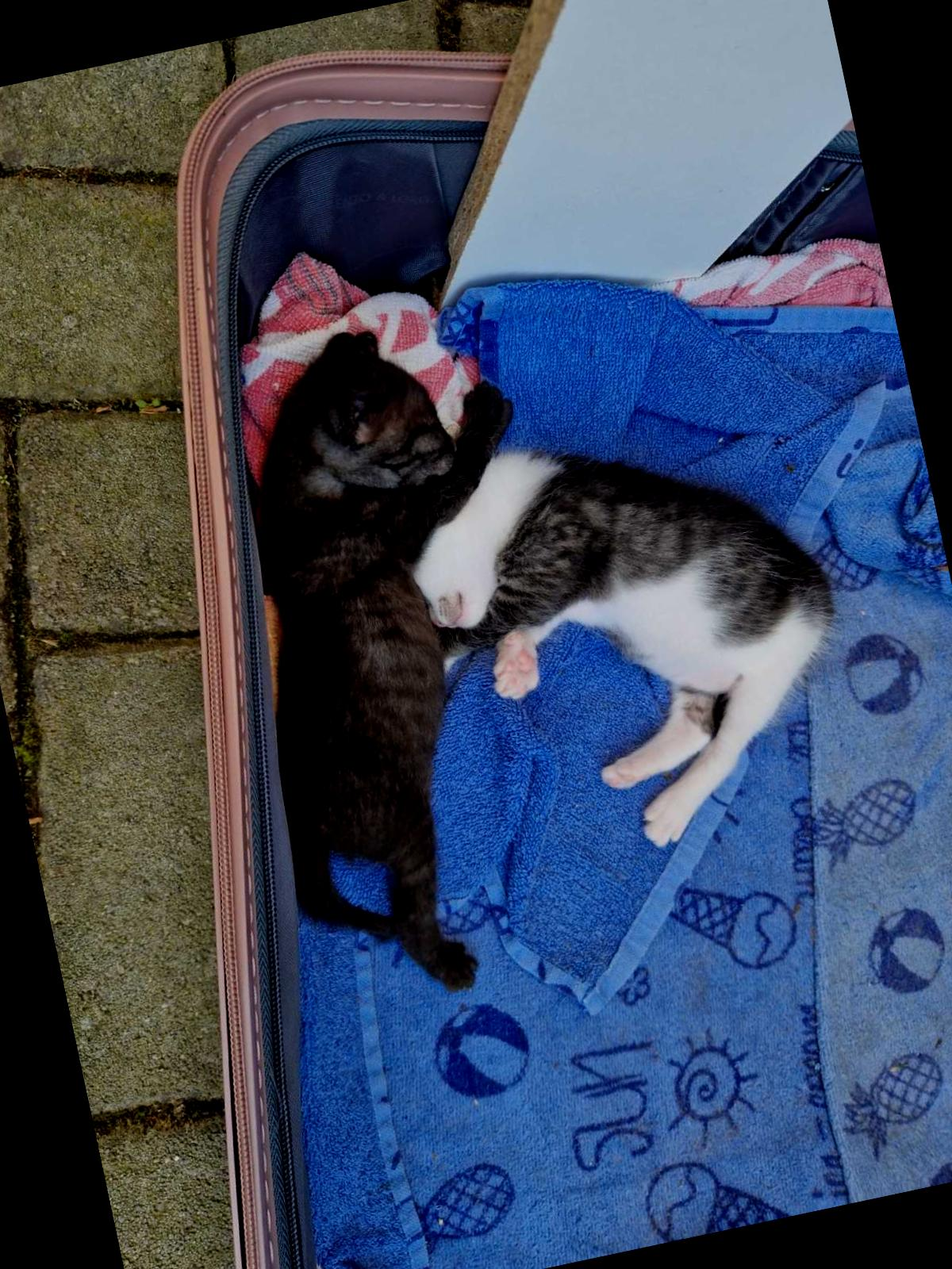macka: (178, 284, 631, 1030), (373, 357, 863, 888)
